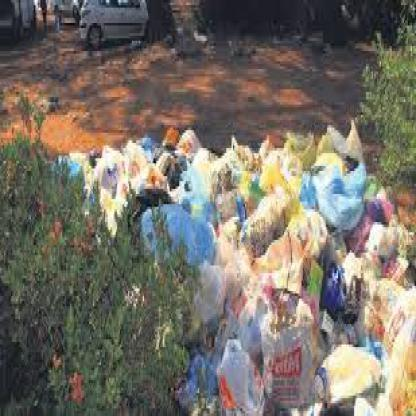Garbage: (210, 146, 414, 414), (86, 146, 236, 219)
